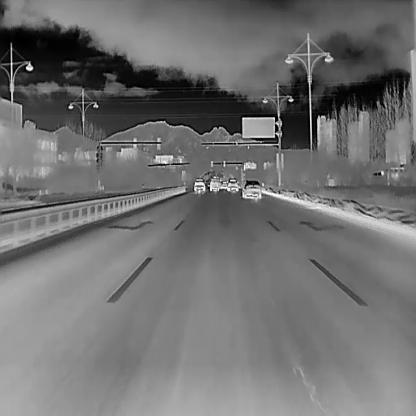car: (242, 179, 261, 199), (193, 177, 205, 193), (209, 177, 219, 192), (228, 177, 238, 192), (220, 180, 228, 190)
